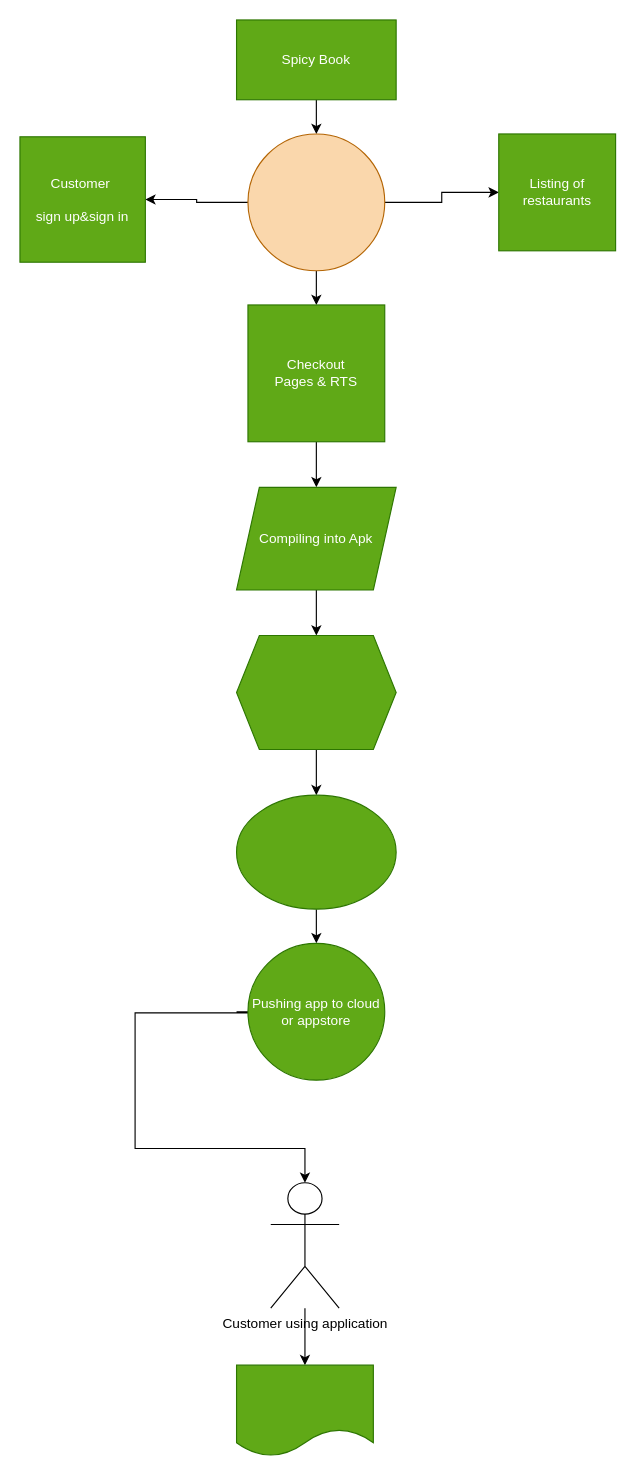
Some shapes in this 636 by 1476 pixel diagram are drawn without their labels. The shapes that lost their labels are listed below. From the top down, each one's box as (x1, y1, x2, y2) in pixels, then its label:
(247, 133, 385, 271): Design ui ux
(235, 634, 396, 750): No bugs found
(235, 794, 396, 909): Writing permission for deployment
(235, 1364, 373, 1456): No feedback found
